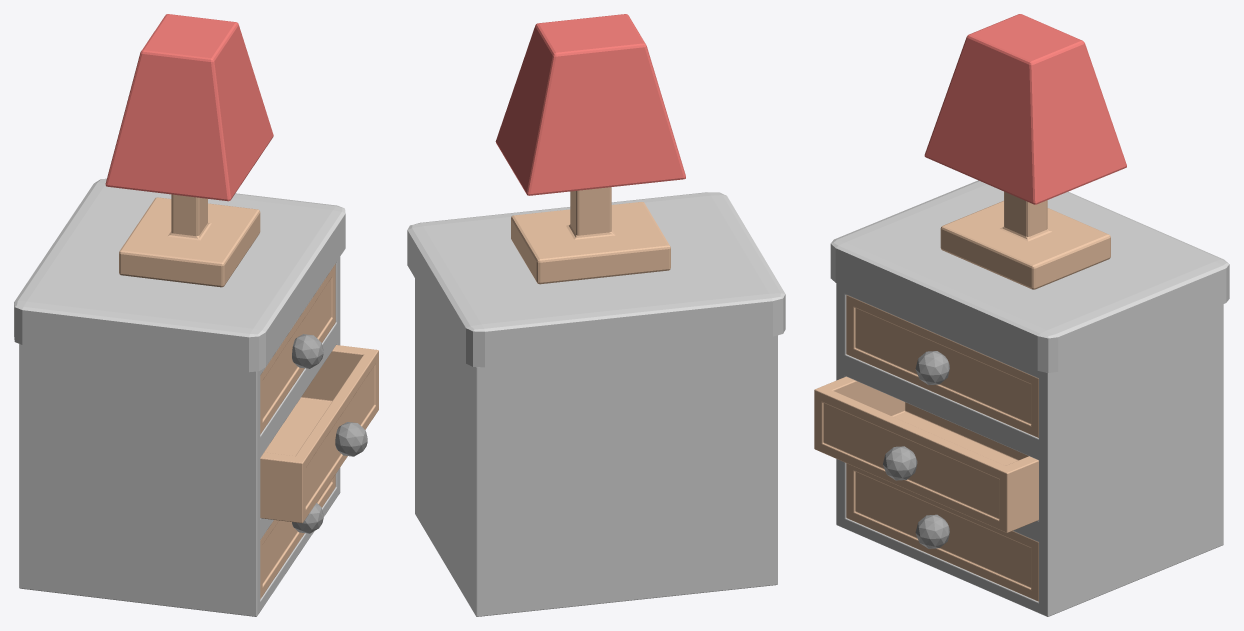
Rendered from lamp.glb.
3 renders of one model, left to right at view 1: azimuth 30°, elevation 25°; view 2: azimuth 150°, elevation 25°; view 3: azimuth 270°, elevation 25°, orthographic. The views are drawn at different scales.
Parts seen in each view (by area): view 1: lamp; view 2: lamp; view 3: lamp.
Boxes of the visible parts, x1,y1,x2,y2 form: lamp: [14, 14, 378, 616]; lamp: [407, 14, 785, 616]; lamp: [814, 14, 1229, 616].
Bounding box in the file's own units: 0.5571 × 0.7422 × 0.557.
